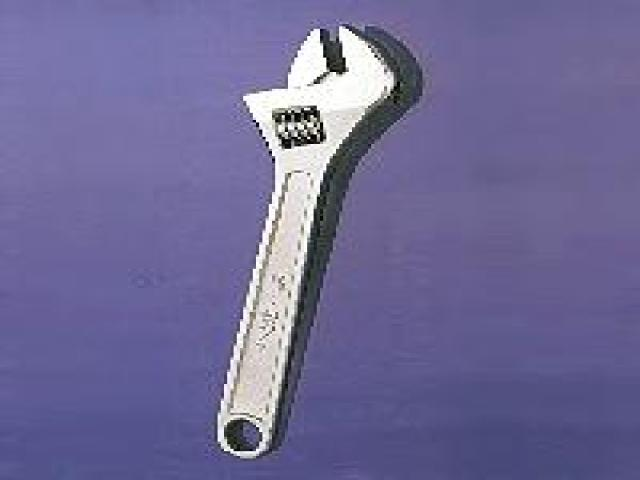Adjustable spanner: (216, 27, 421, 459)
